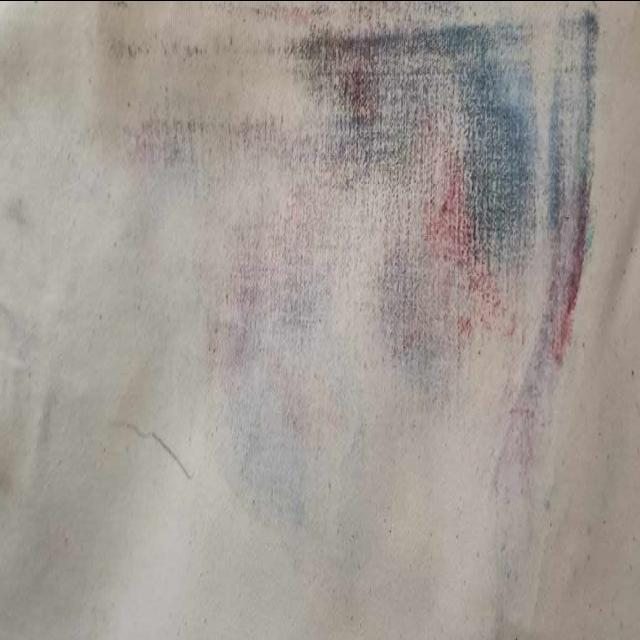taaaches: (108, 0, 626, 464)
